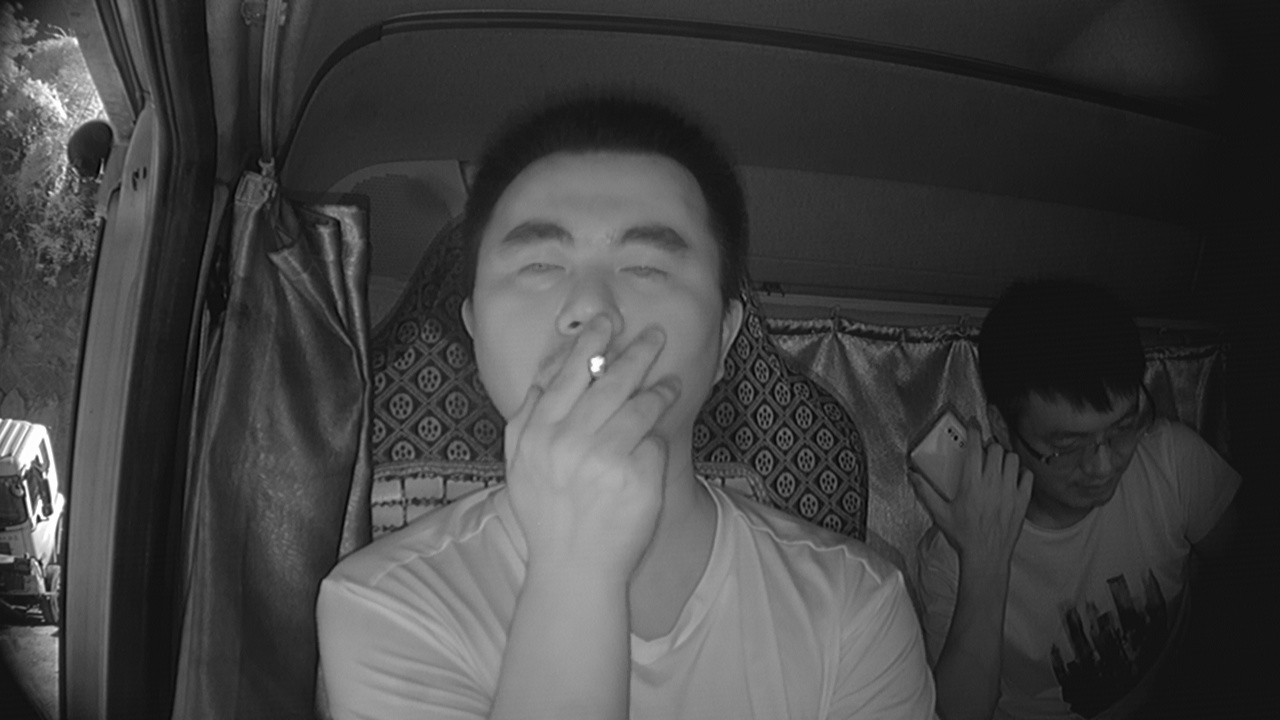hand: (501, 323, 686, 539)
